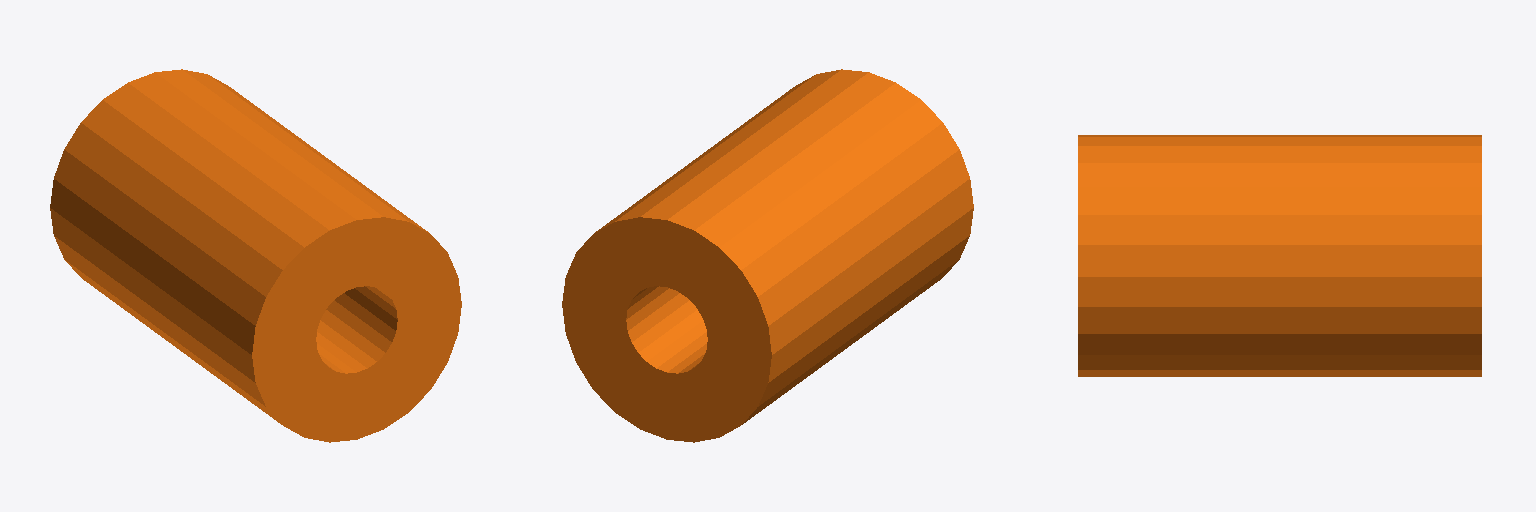
Rendered from tinker.obj.
3 views of the same model, side by side, from view 1: azimuth 30°, elevation 25°; view 2: azimuth 150°, elevation 25°; view 3: azimuth 270°, elevation 25° (orthographic).
Visible parts, largest first — view 1: obj_0.002; view 2: obj_0.002; view 3: obj_0.002.
Part boxes in pixels (bbox=[...]): obj_0.002: bbox=[50, 69, 461, 442]; obj_0.002: bbox=[562, 69, 973, 442]; obj_0.002: bbox=[1078, 135, 1481, 376].
Size of the model in its own units: 9 by 9 by 15.